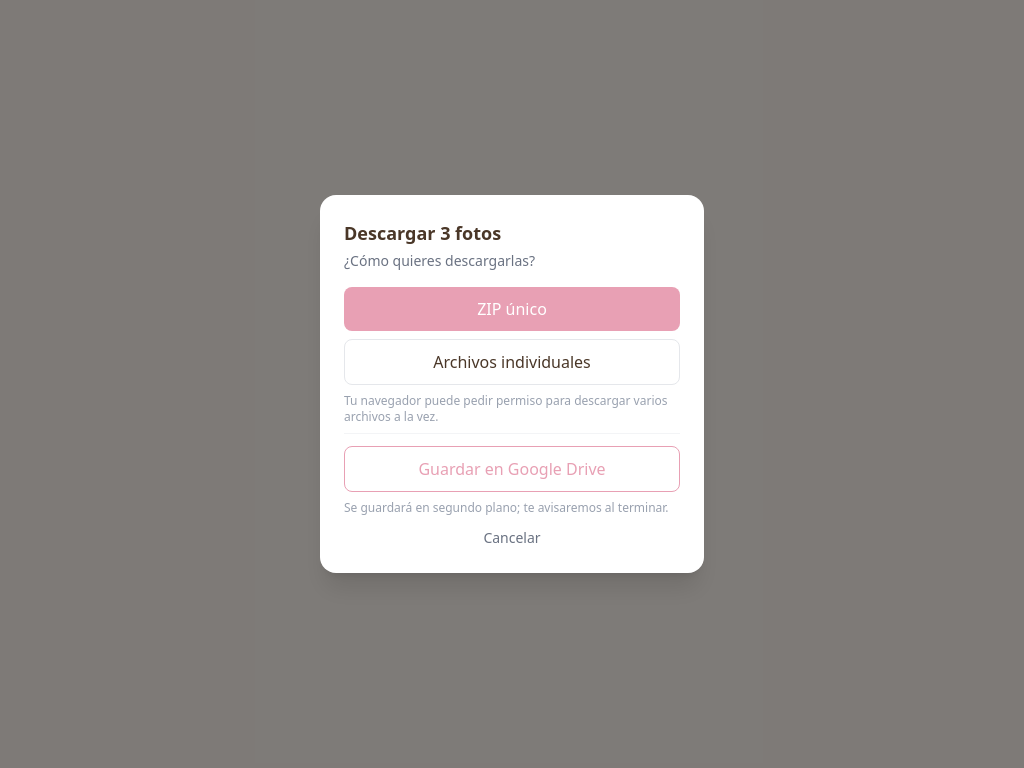
Scenario: DownloadDialog › error drive_not_authorized pasa el diálogo a estado de autorización
Click the button "Guardar en Google Drive" at x=512, y=469, box 344,446 -> 680,492
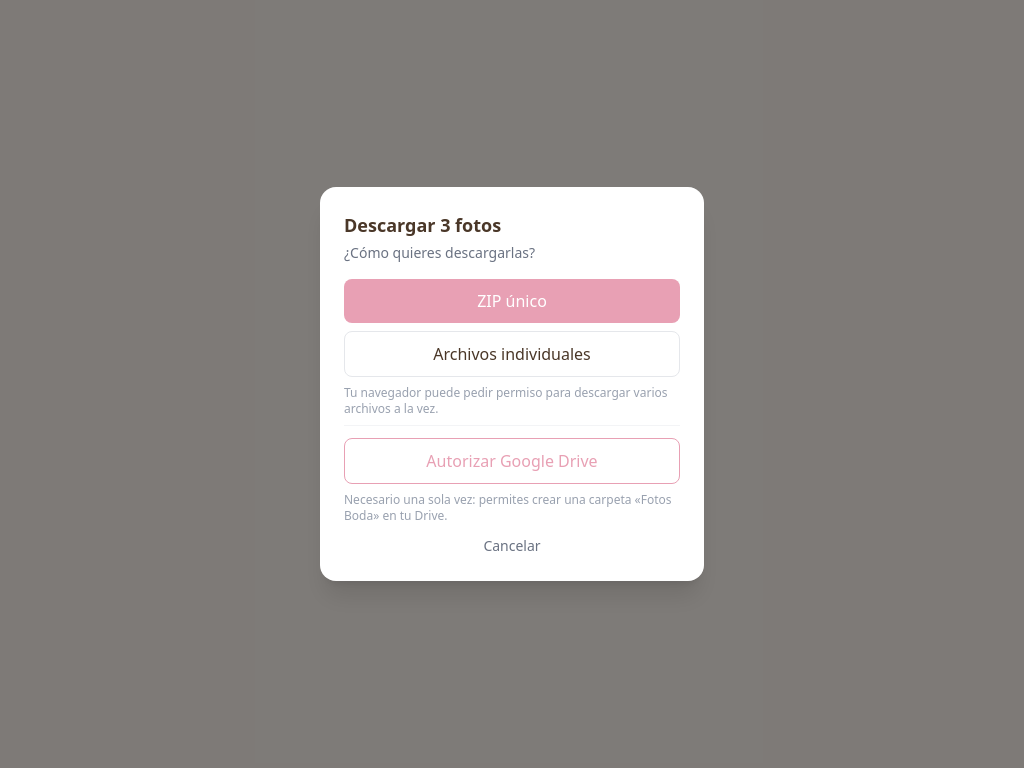
Check: the link "Autorizar Google Drive" is shown, box 344,438 -> 680,484
Check: the button "Guardar en Google Drive" is gone
